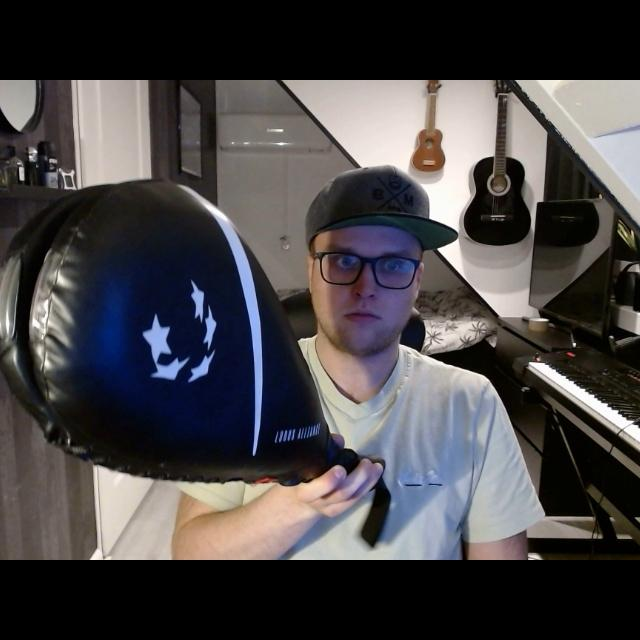paddle: (4, 175, 357, 497)
